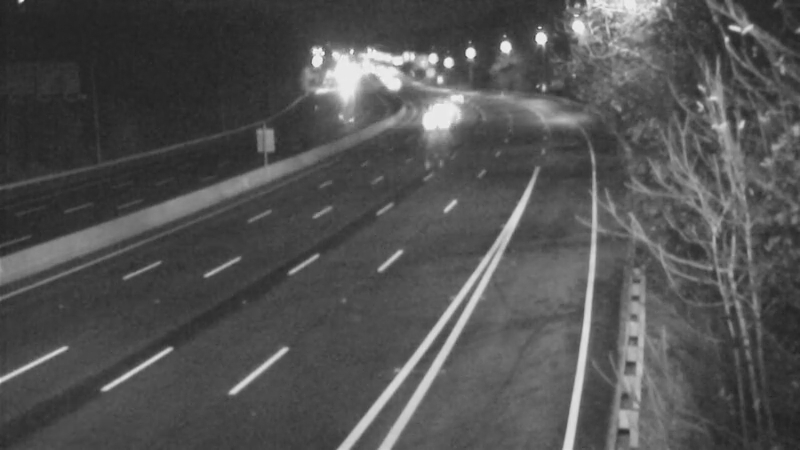vehicle: (364, 61, 414, 111), (430, 72, 480, 122), (422, 84, 472, 134), (417, 95, 467, 145)
